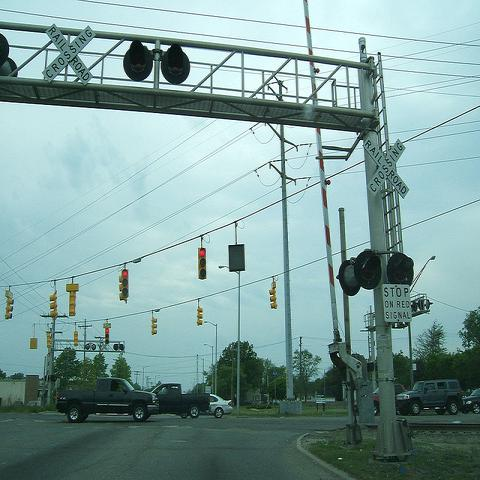car: (397, 377, 464, 420), (354, 384, 406, 416), (200, 394, 234, 418), (462, 388, 479, 415)
truck: (57, 379, 159, 423), (396, 379, 464, 416), (144, 384, 210, 419)
